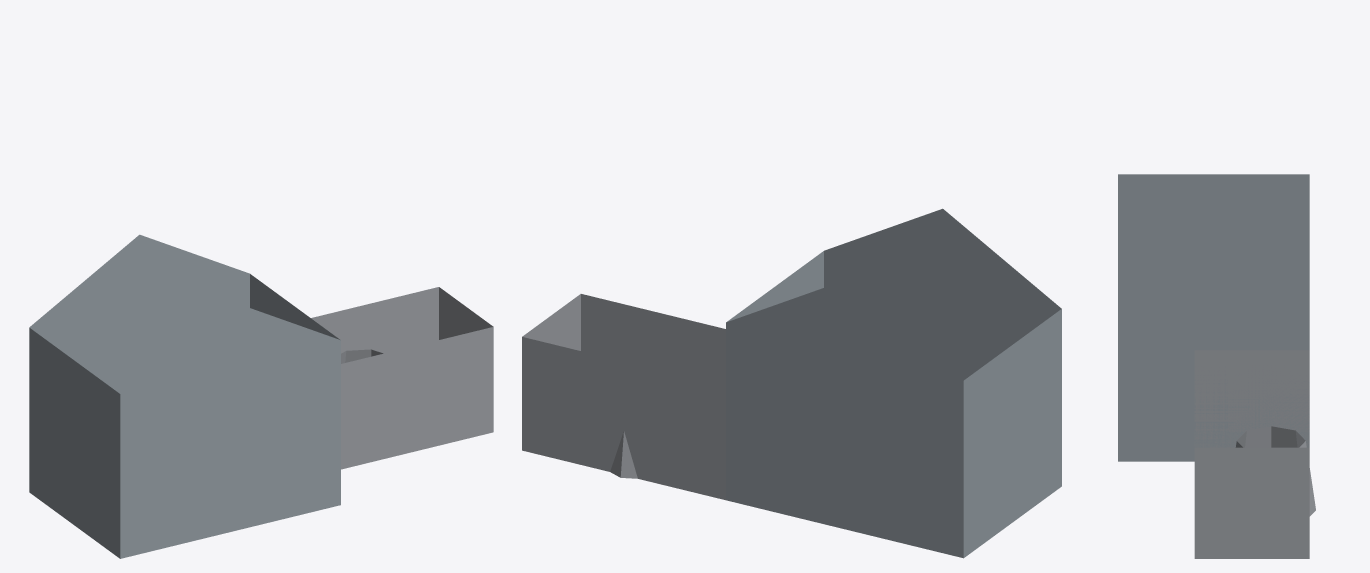
File: Bld_I_med_L2_C.fbx
3 views of the same model, side by side, from view 1: azimuth 30°, elevation 25°; view 2: azimuth 150°, elevation 25°; view 3: azimuth 270°, elevation 25° (orthographic). The views are drawn at different scales.
Parts seen in each view (by area): view 1: Bld_I_med_L2_C_LOD0; view 2: Bld_I_med_L2_C_LOD0; view 3: Bld_I_med_L2_C_LOD0.
Boxes of the visible parts, x1,y1,x2,y2 form: Bld_I_med_L2_C_LOD0: [29, 234, 493, 558]; Bld_I_med_L2_C_LOD0: [522, 208, 1061, 558]; Bld_I_med_L2_C_LOD0: [1118, 174, 1315, 558].
Size of what is drawn, in the model's own units: 1337 by 1225 by 650.
Materials: 1 (1 with a texture image).
